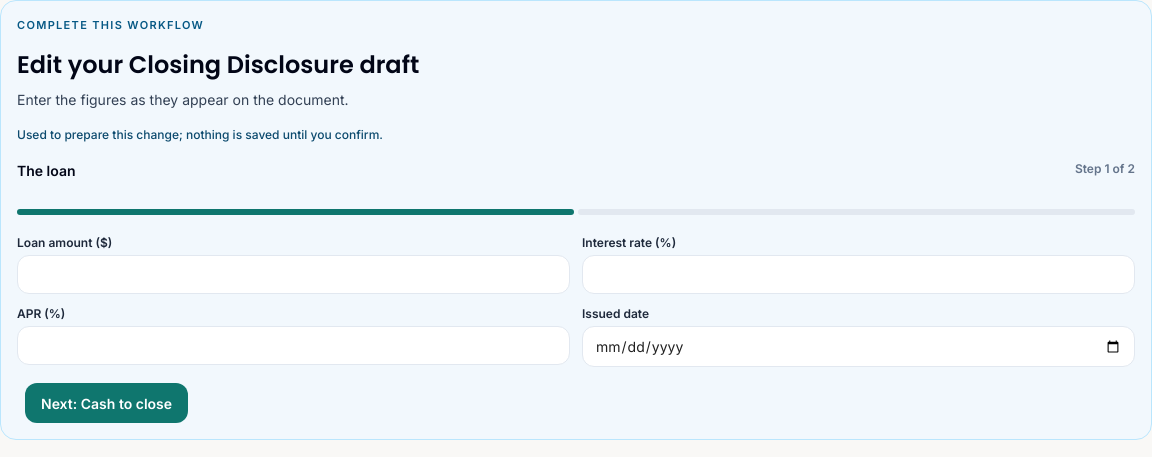
Test: grouped workflow capture › says a workflow form is reviewed next, without the awkward "after you continue" suffix, and steps a long figures form
Expected: the text "Used to prepare this change; nothing is saved until you confirm." is shown, [17,127,383,142]
Expected: the text "Step 1 of 2" is shown, [1075,160,1135,178]
Click the button "Next: Cash to close".
click(107, 403)  # box [25,383,188,423]
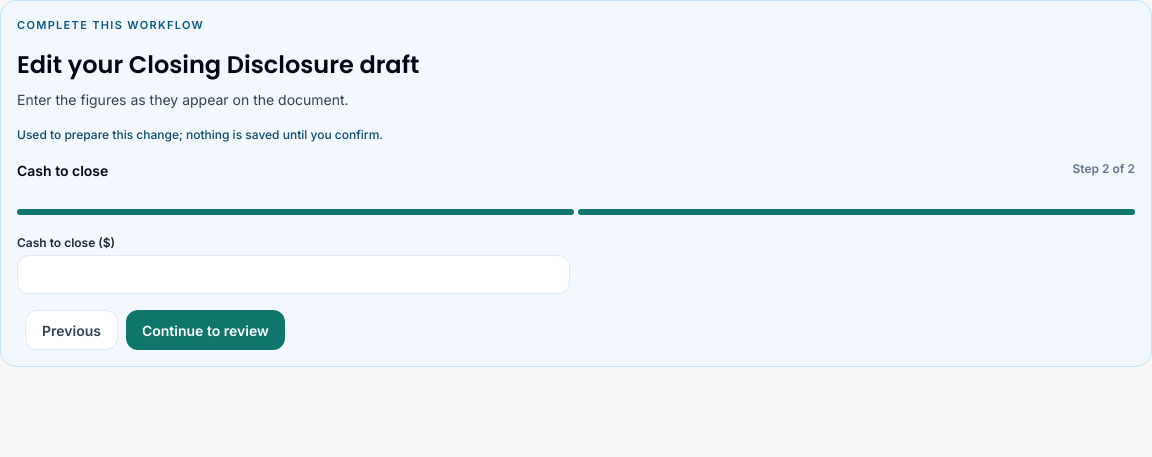
Expected: the number field named "Cash to close ($)" is shown, [17,255,570,294]
Expected: the button "Continue to review" is shown, [126,310,285,350]
